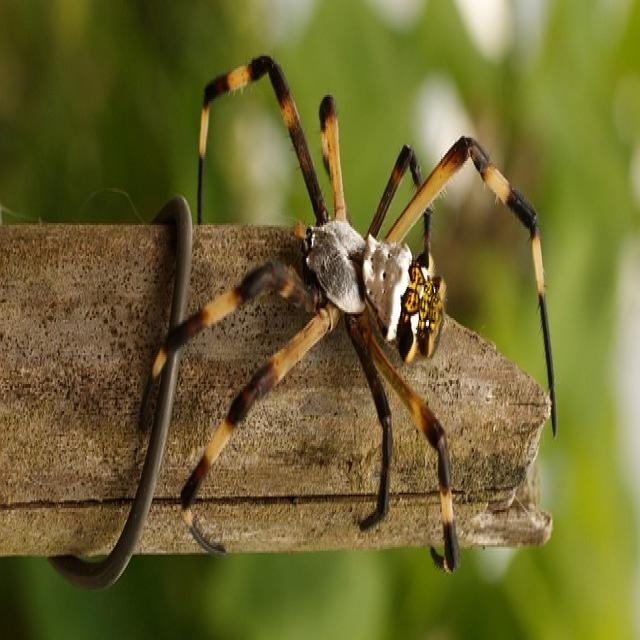spyder: (143, 58, 554, 571)
